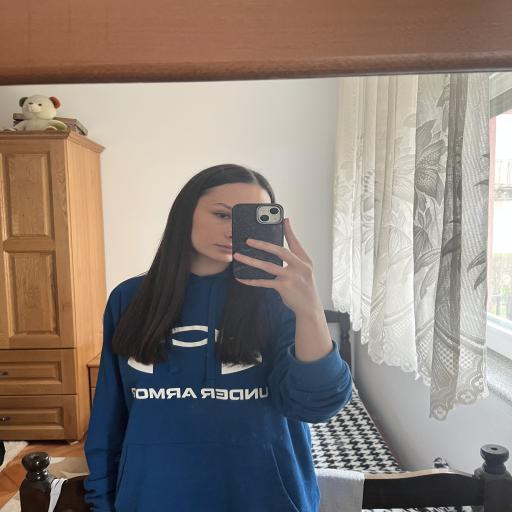marija: (194, 180, 234, 261)
